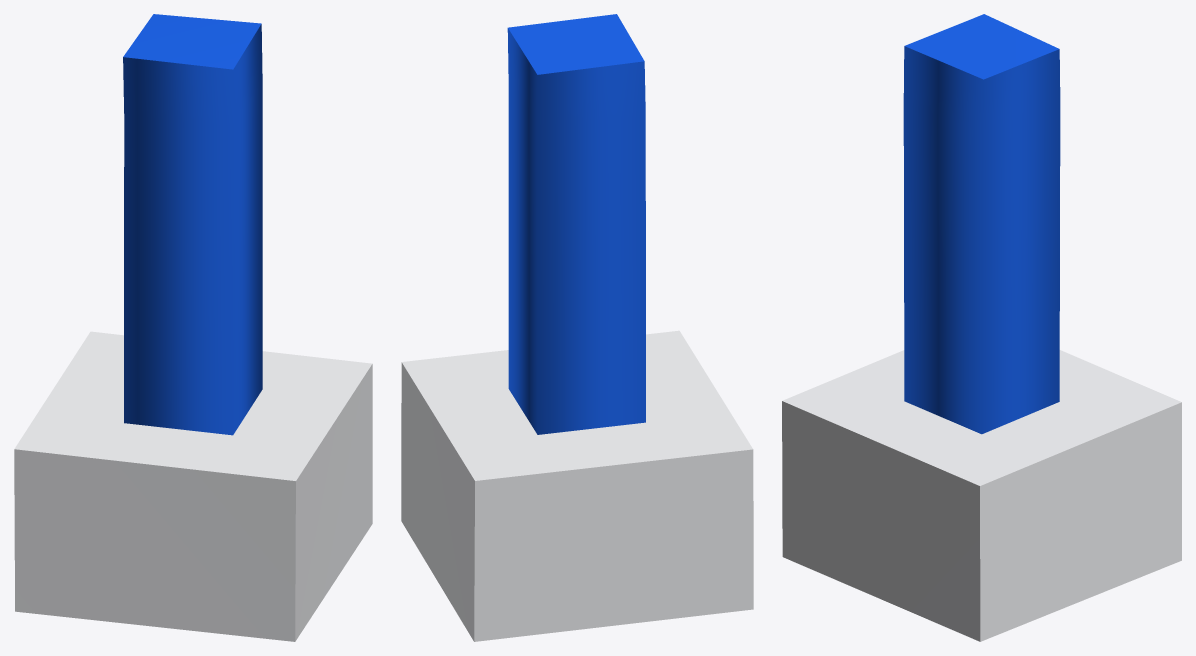
Rendered from ShinNew.obj.
The picture shows the model from 3 angles, left to right: view 1: azimuth 30°, elevation 25°; view 2: azimuth 150°, elevation 25°; view 3: azimuth 270°, elevation 25°; orthographic projection. The views are drawn at different scales.
Size of the model in its own units: 0.9066 by 1.28 by 0.9058.
2 materials, 2 textured.
